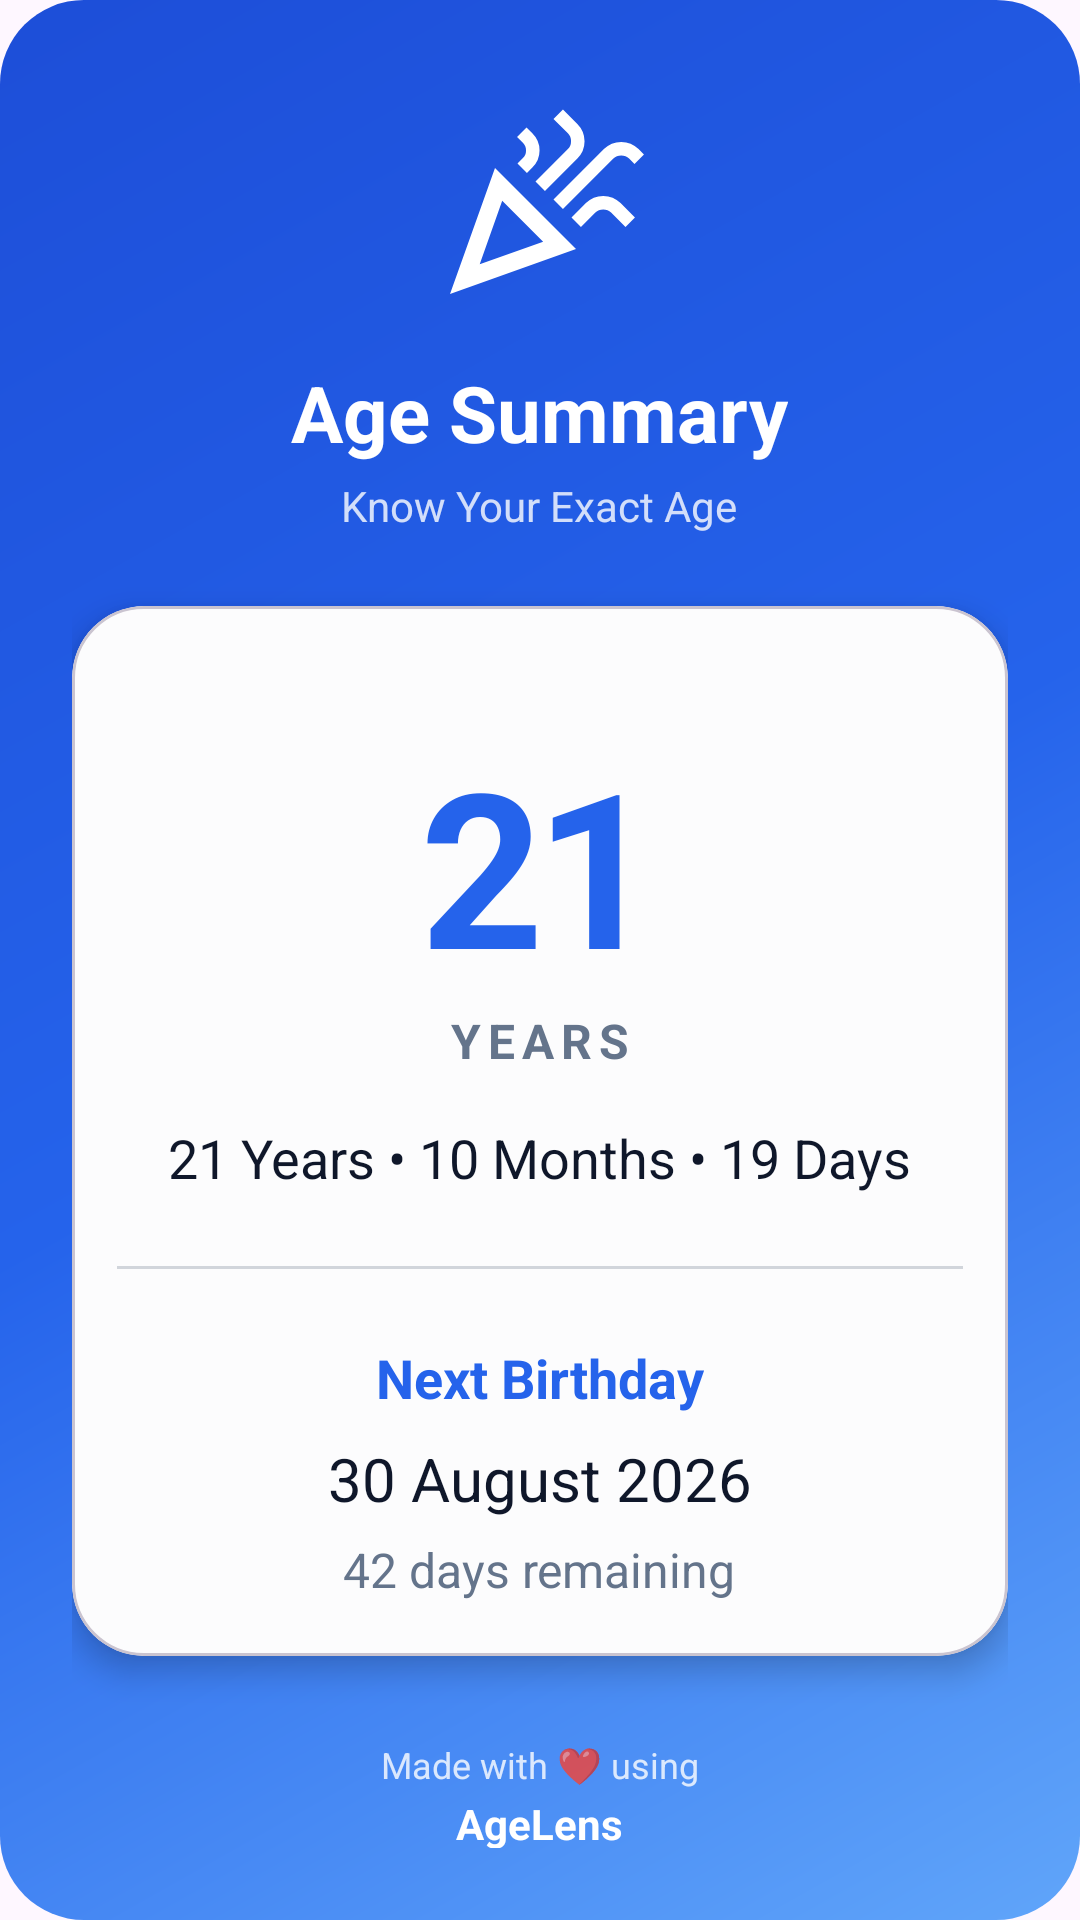

Icons on this 1080px x 1920px Android screen, each with its box as Rect(x1, y1, x2, y2):
celebration: Rect(450, 109, 644, 294)
